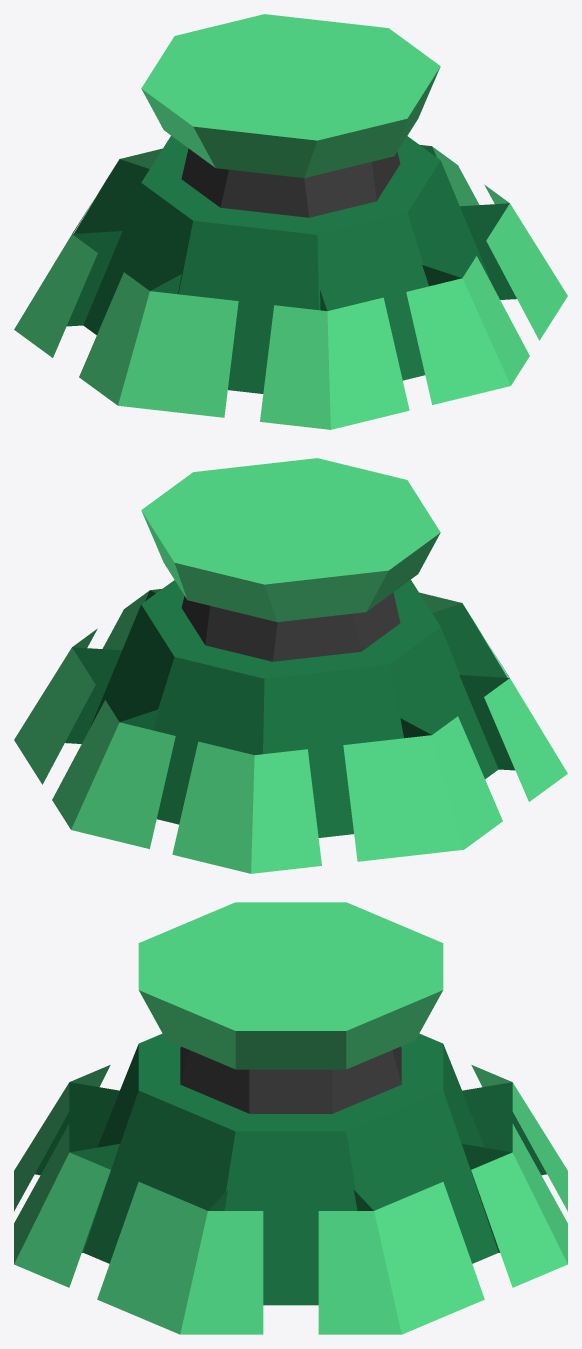
The model's file is Foot.FBX.
3 views of the same model, one above another, from view 1: azimuth 30°, elevation 25°; view 2: azimuth 150°, elevation 25°; view 3: azimuth 270°, elevation 25° (orthographic). The views are drawn at different scales.
Visible parts, largest first — view 1: VIFS001, VIFS002, VIFS003; view 2: VIFS001, VIFS002, VIFS003; view 3: VIFS001, VIFS002, VIFS003.
Part boxes in pixels (x1,y1,x2,y2): VIFS001: (14,14,567,429); VIFS002: (66,135,516,393); VIFS003: (181,148,400,217); VIFS001: (14,458,567,873); VIFS002: (65,579,515,837); VIFS003: (181,592,400,661); VIFS001: (14,902,567,1334); VIFS002: (35,1033,546,1305); VIFS003: (180,1046,401,1113).
Size of the model in its own units: 0.8 by 0.4 by 0.8.
